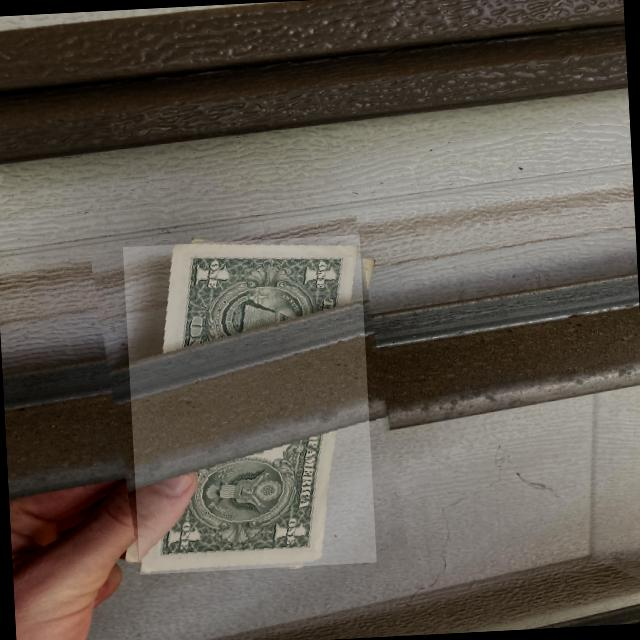one: (133, 223, 361, 596)
